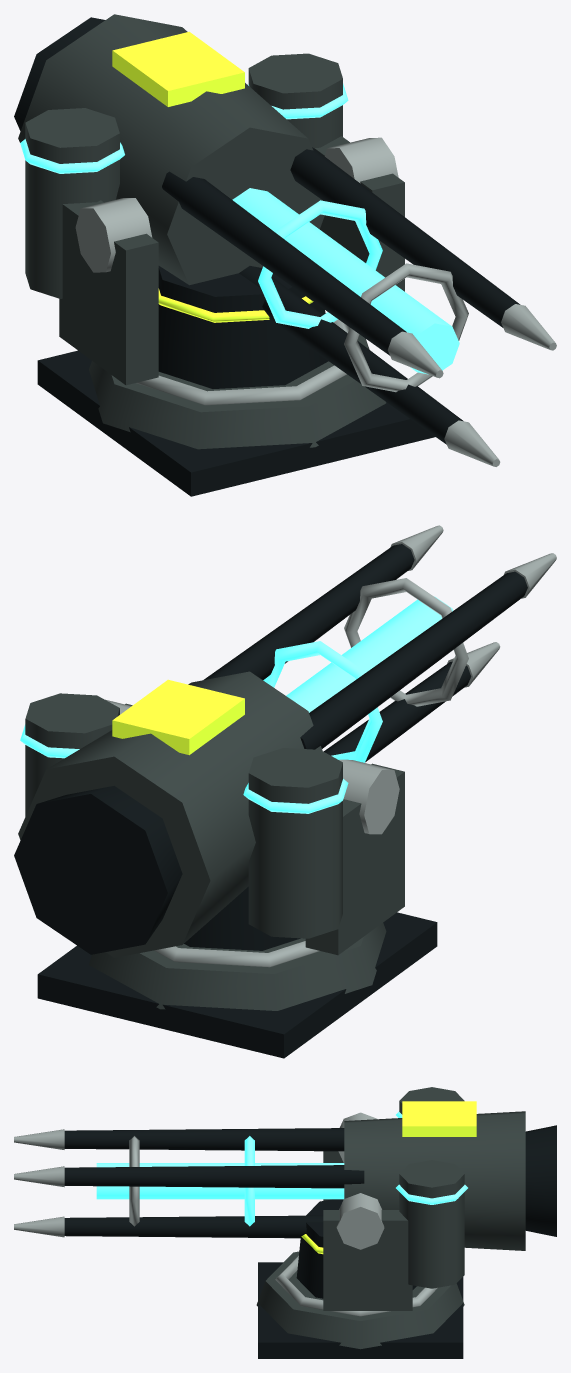
The model's file is pulse-projector-lod3.glb.
The picture shows the model from 3 angles, top to bottom: view 1: azimuth 30°, elevation 25°; view 2: azimuth 150°, elevation 25°; view 3: azimuth 270°, elevation 25°; orthographic projection. The views are drawn at different scales.
Visible parts, largest first — view 1: receiver__Cerakote_graphite_armor, focus-prongs__Recessed_carbon_mechanism, capacitors__Cerakote_graphite_armor, cradle__Cerakote_graphite_armor, mount__Recessed_carbon_mechanism, mount__Cerakote_graphite_armor, yaw-drive__Recessed_carbon_mechanism, core__Ionized_cyan_core, identification__Velocity_chartreuse_identification, trunnion__Machined_titanium, focus-prongs__Machined_titanium, induction-rings__Machined_titanium (+5 smaller); view 2: receiver__Cerakote_graphite_armor, capacitors__Cerakote_graphite_armor, receiver__Recessed_carbon_mechanism, focus-prongs__Recessed_carbon_mechanism, mount__Recessed_carbon_mechanism, mount__Cerakote_graphite_armor, cradle__Cerakote_graphite_armor, identification__Velocity_chartreuse_identification, core__Ionized_cyan_core, induction-rings__Machined_titanium, trunnion__Machined_titanium, yaw-drive__Recessed_carbon_mechanism (+4 smaller); view 3: focus-prongs__Recessed_carbon_mechanism, receiver__Cerakote_graphite_armor, capacitors__Cerakote_graphite_armor, cradle__Cerakote_graphite_armor, mount__Cerakote_graphite_armor, mount__Recessed_carbon_mechanism, core__Ionized_cyan_core, receiver__Recessed_carbon_mechanism, identification__Velocity_chartreuse_identification, trunnion__Machined_titanium, focus-prongs__Machined_titanium, yaw-drive__Recessed_carbon_mechanism (+4 smaller).
Part boxes in pixels (x1,y1,x2,y2): receiver__Cerakote_graphite_armor: (18,14,324,285); focus-prongs__Recessed_carbon_mechanism: (162,147,520,444); capacitors__Cerakote_graphite_armor: (25,53,342,298); cradle__Cerakote_graphite_armor: (59,136,404,385); mount__Recessed_carbon_mechanism: (37,350,435,496); mount__Cerakote_graphite_armor: (89,313,386,449); yaw-drive__Recessed_carbon_mechanism: (158,266,328,388); core__Ionized_cyan_core: (232,188,459,374); identification__Velocity_chartreuse_identification: (112,31,244,106); trunnion__Machined_titanium: (75,137,398,272); focus-prongs__Machined_titanium: (387,304,556,466); induction-rings__Machined_titanium: (344,263,468,392); receiver__Cerakote_graphite_armor: (18,671,322,957); capacitors__Cerakote_graphite_armor: (25,693,342,938); receiver__Recessed_carbon_mechanism: (14,786,182,954); focus-prongs__Recessed_carbon_mechanism: (203,544,527,762); mount__Recessed_carbon_mechanism: (37,912,437,1058); mount__Cerakote_graphite_armor: (89,923,386,1010); cradle__Cerakote_graphite_armor: (125,703,404,955); identification__Velocity_chartreuse_identification: (112,679,244,755); core__Ionized_cyan_core: (286,596,453,712); induction-rings__Machined_titanium: (344,578,468,706); trunnion__Machined_titanium: (105,699,399,834); yaw-drive__Recessed_carbon_mechanism: (184,886,300,950); focus-prongs__Recessed_carbon_mechanism: (64,1128,364,1238); receiver__Cerakote_graphite_armor: (344,1111,525,1250); capacitors__Cerakote_graphite_armor: (399,1087,464,1288); cradle__Cerakote_graphite_armor: (323,1151,412,1310); mount__Cerakote_graphite_armor: (256,1251,464,1349); mount__Recessed_carbon_mechanism: (258,1262,463,1358); core__Ionized_cyan_core: (96,1163,344,1199); receiver__Recessed_carbon_mechanism: (525,1125,556,1236); identification__Velocity_chartreuse_identification: (402,1101,476,1136); trunnion__Machined_titanium: (336,1112,384,1249); focus-prongs__Machined_titanium: (14,1129,64,1237); yaw-drive__Recessed_carbon_mechanism: (296,1199,416,1298).
Size of the model in its own units: 1.65 by 1.52 by 3.65.
